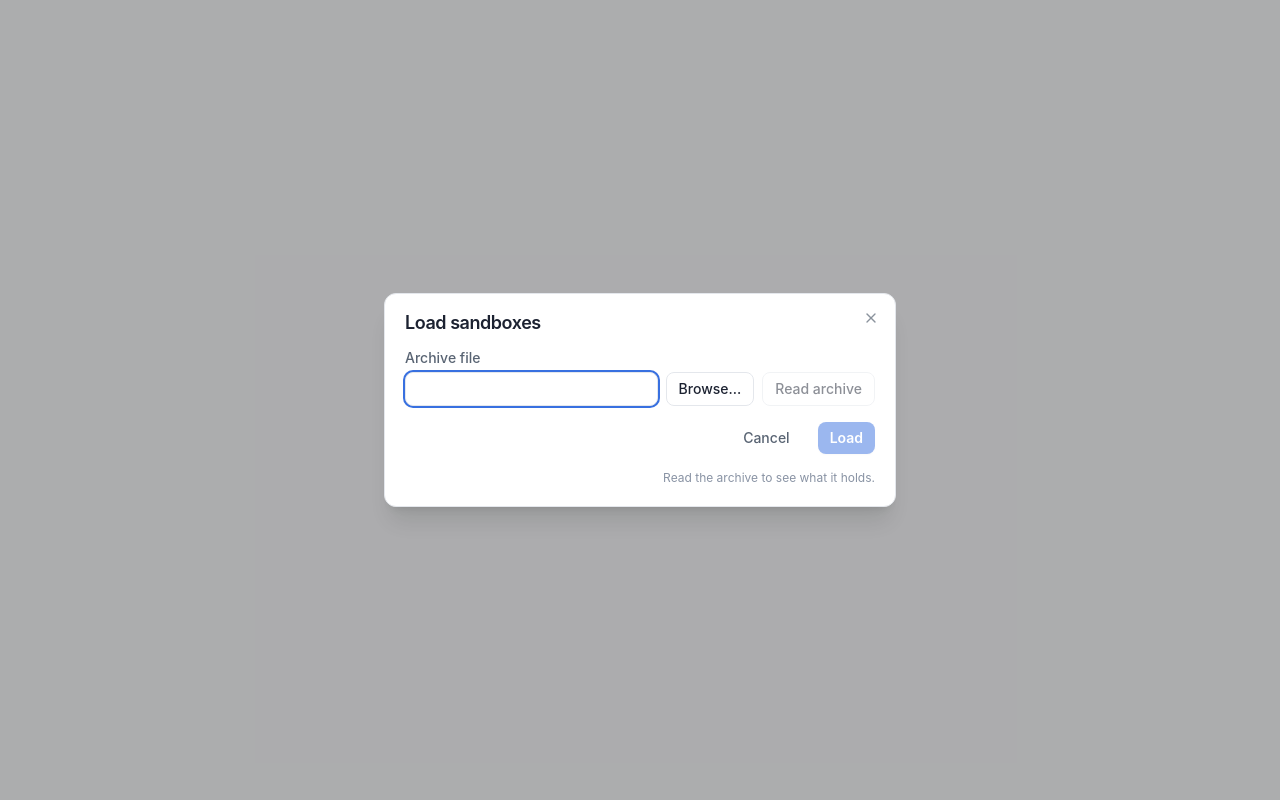
Test case: LoadArchive › lists what the archive holds, everything selected
Type "/in/a.izba" into the field labelled "Archive file" at (531, 389), box [405,372,658,406]
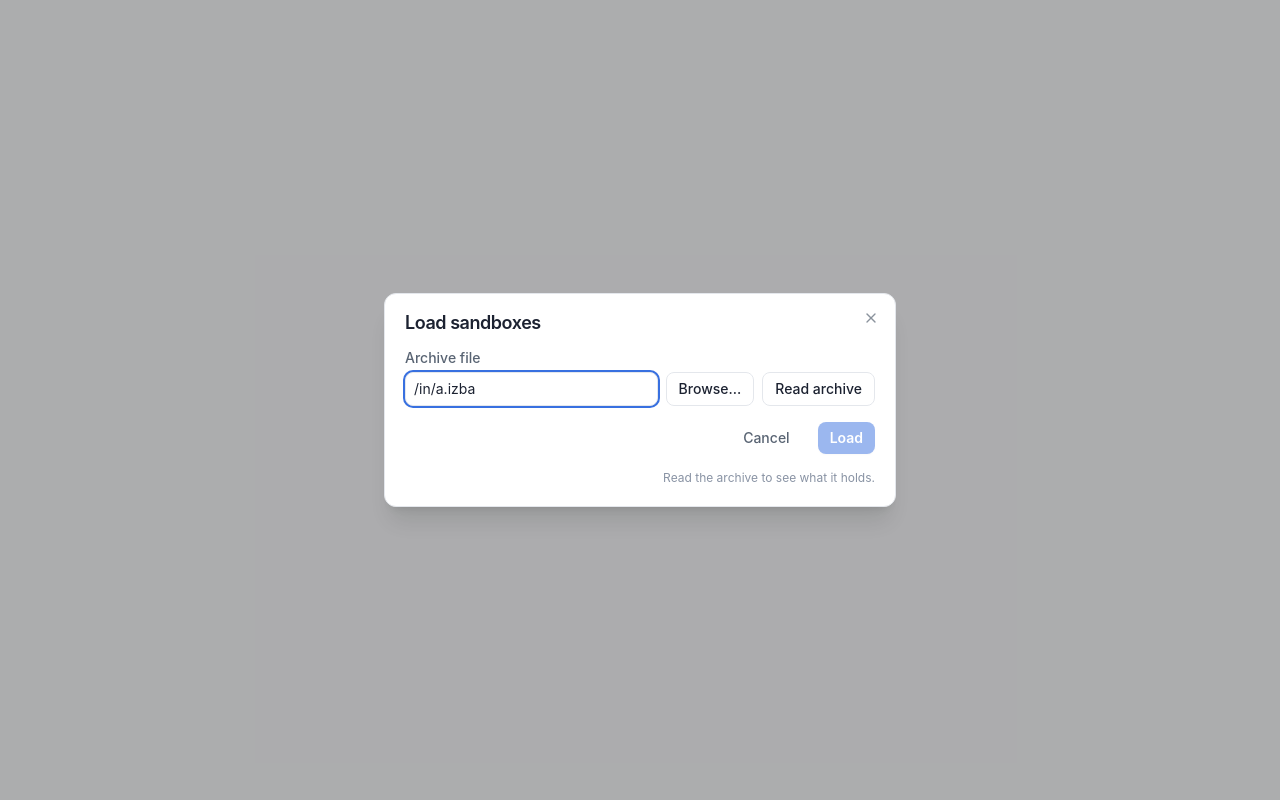
Click the button "Read archive" at (819, 389), box [762,372,875,406]
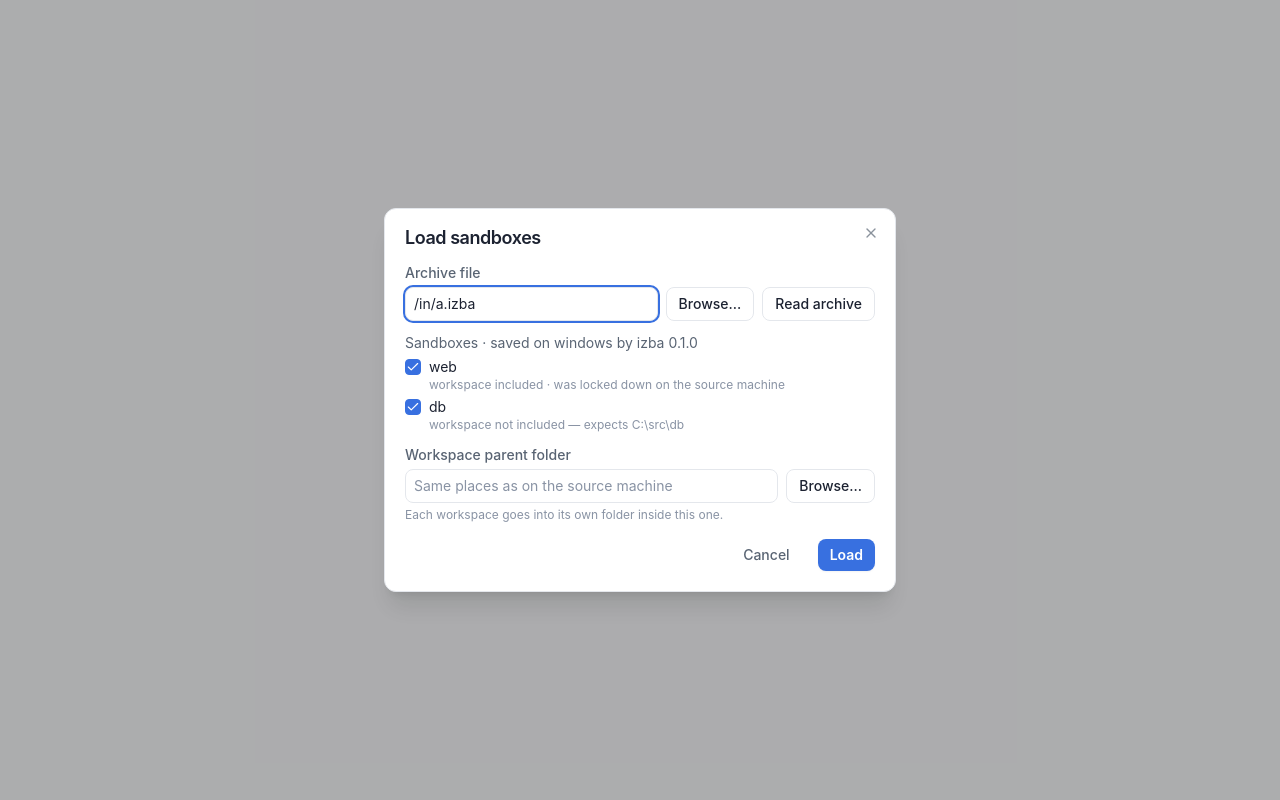
Check: the checkbox named "Load web" is checked, box [405,359,421,375]
Check: the checkbox named "Load db" is checked, box [405,399,421,415]
Check: the text "workspace included · was locked down on the source machine" is shown, box [429,377,785,393]
